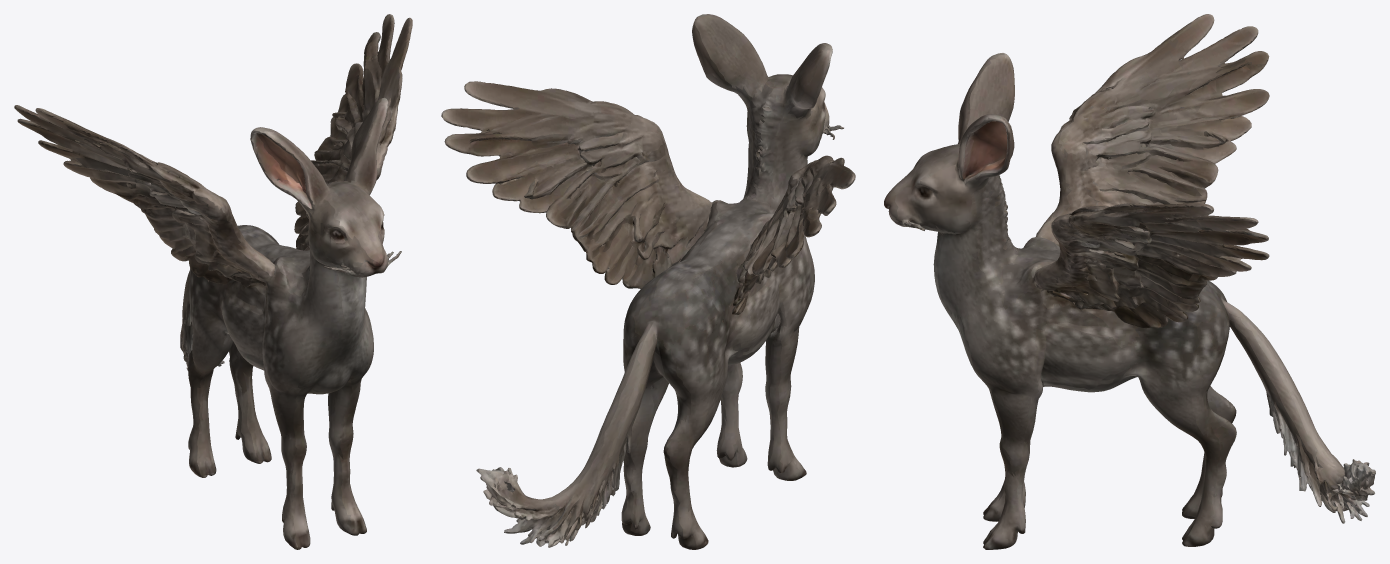
File: ershu.glb
The picture shows the model from 3 angles, left to right: view 1: azimuth 30°, elevation 25°; view 2: azimuth 150°, elevation 25°; view 3: azimuth 270°, elevation 25°; orthographic projection. The views are drawn at different scales.
Visible parts, largest first — view 1: geometry_0; view 2: geometry_0; view 3: geometry_0.
Boxes of the visible parts, bbox=[...] form: geometry_0: bbox=[14, 14, 412, 549]; geometry_0: bbox=[441, 14, 855, 549]; geometry_0: bbox=[884, 14, 1375, 549].
Size of the model in its own units: 0.9 by 0.9693 by 0.9681.
Materials: 1 (1 with a texture image).
